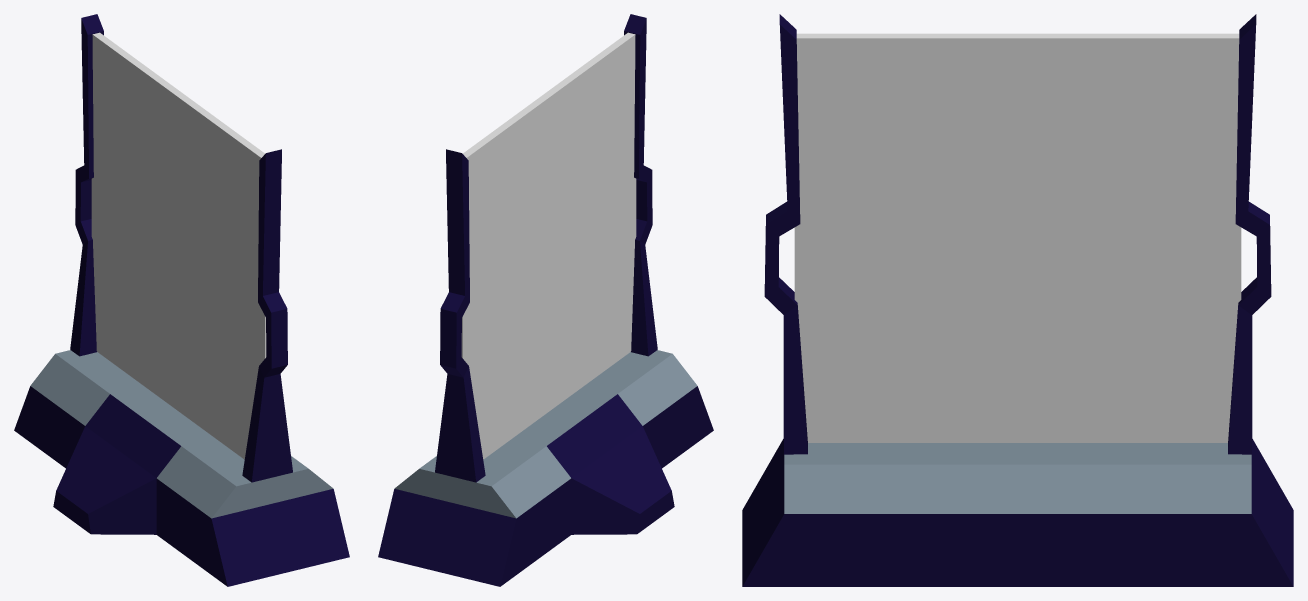
File: HologramFrame.fbx
3 views of the same model, side by side, from view 1: azimuth 30°, elevation 25°; view 2: azimuth 150°, elevation 25°; view 3: azimuth 270°, elevation 25° (orthographic). The views are drawn at different scales.
Visible parts, largest first — view 1: Screen, HologramFrame, SideDecoration; view 2: Screen, HologramFrame, SideDecoration; view 3: Screen, HologramFrame, SideDecoration.
Part boxes in pixels (x1,y1,x2,y2): Screen: (91,32,266,459); HologramFrame: (14,350,349,586); SideDecoration: (70,14,292,482); Screen: (461,32,636,459); HologramFrame: (378,350,713,586); SideDecoration: (435,14,657,482); Screen: (794,33,1241,442); HologramFrame: (742,439,1293,586); SideDecoration: (764,14,1271,454).
Size of the model in its own units: 0.9236 by 2.12 by 2.
